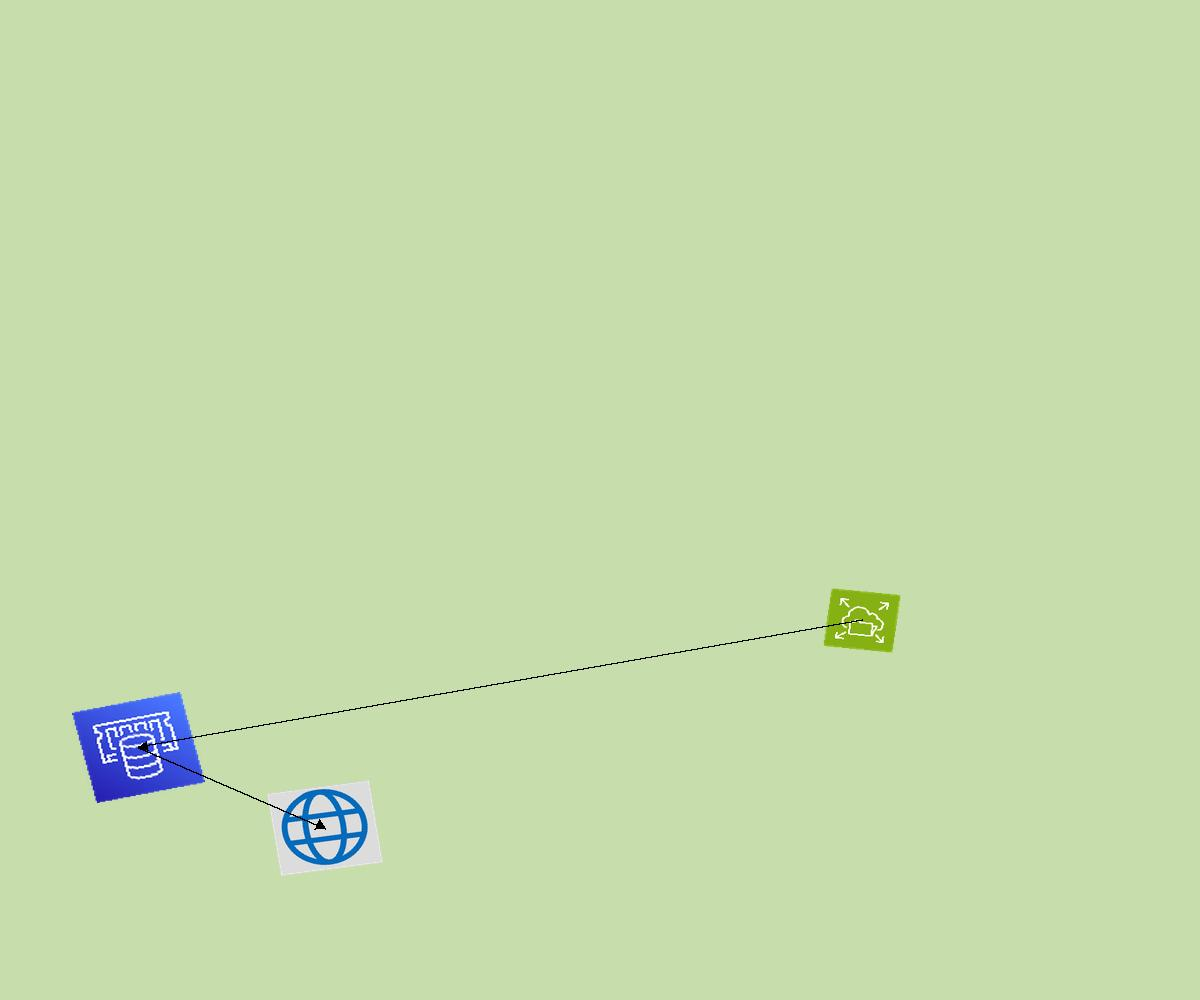AWS-EFS: (823, 588, 901, 653)
AWS-ElastiCache: (72, 692, 205, 803)
Azure_http: (267, 780, 383, 876)
